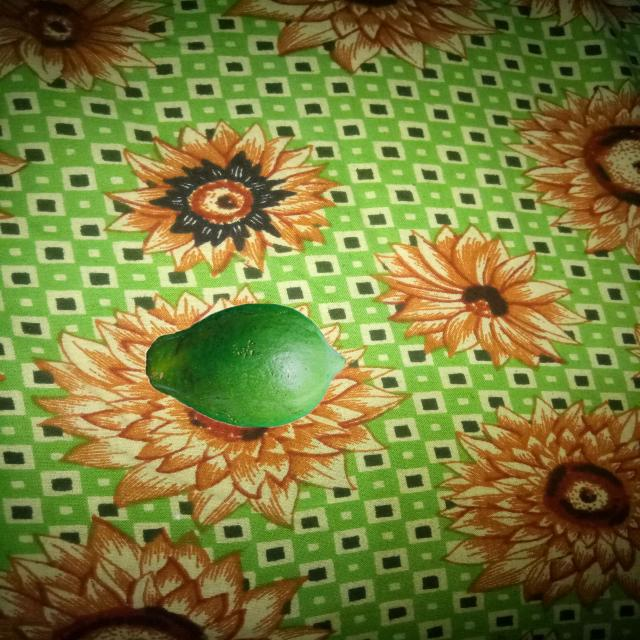Pepaya unrippen: (130, 302, 348, 435)
